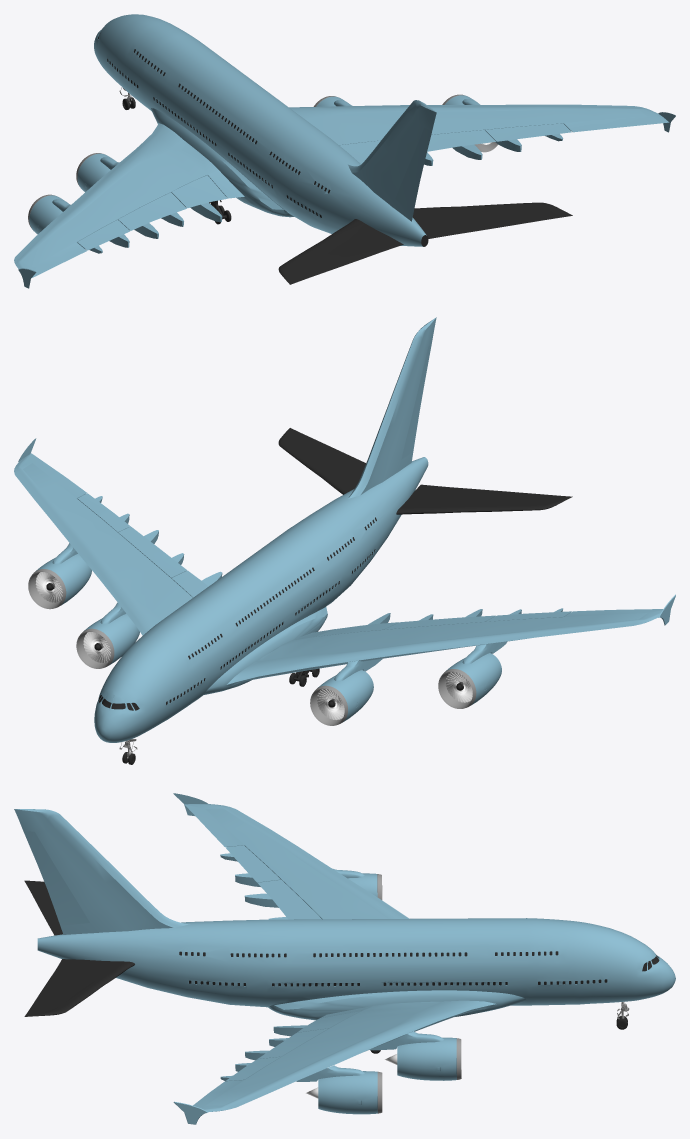
The picture shows the model from 3 angles, top to bottom: view 1: azimuth 30°, elevation 25°; view 2: azimuth 150°, elevation 25°; view 3: azimuth 270°, elevation 25°; orthographic projection.
Visible parts, largest first — view 1: chassis01, rudder01; view 2: chassis01, rudder01; view 3: chassis01, rudder01.
Part boxes in pixels (<box>): chassis01: <box>14,14,675,288</box>; rudder01: <box>395,127,431,213</box>; chassis01: <box>14,317,675,742</box>; rudder01: <box>401,343,431,459</box>; chassis01: <box>14,793,675,1124</box>; rudder01: <box>23,831,89,925</box>.
Size of the model in its own units: 6517 by 2172 by 5896.
